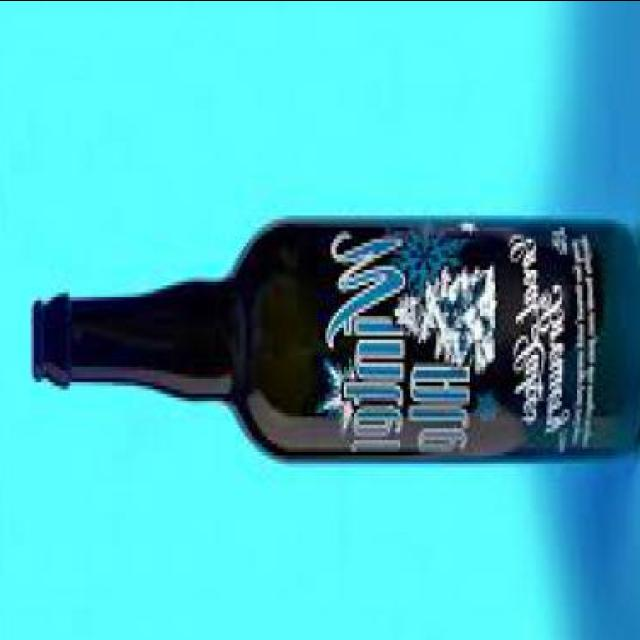kaca: (30, 217, 640, 454)
